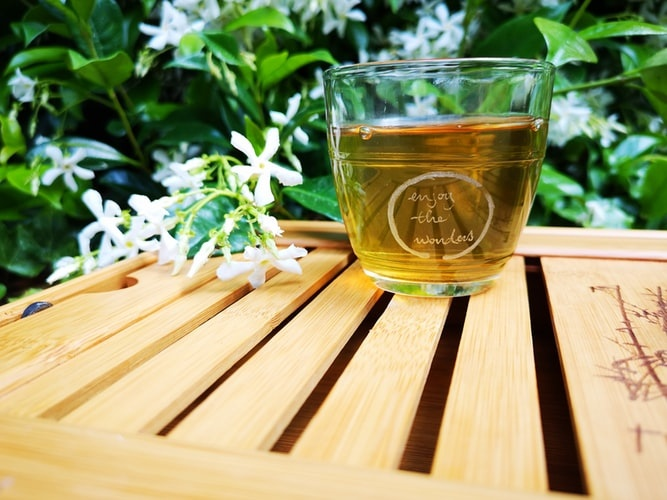whiskey: (322, 55, 560, 292)
